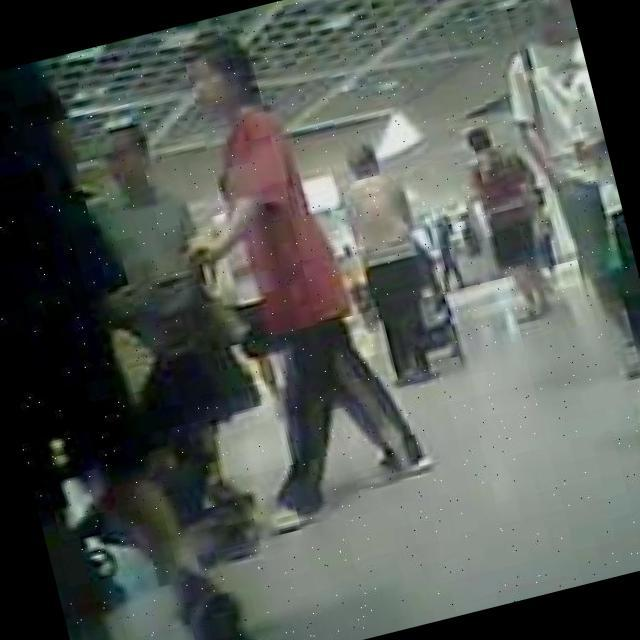person: (140, 6, 440, 530), (0, 43, 262, 640), (62, 110, 266, 530), (476, 0, 640, 434), (327, 133, 457, 395), (448, 115, 570, 328), (416, 201, 474, 300)
